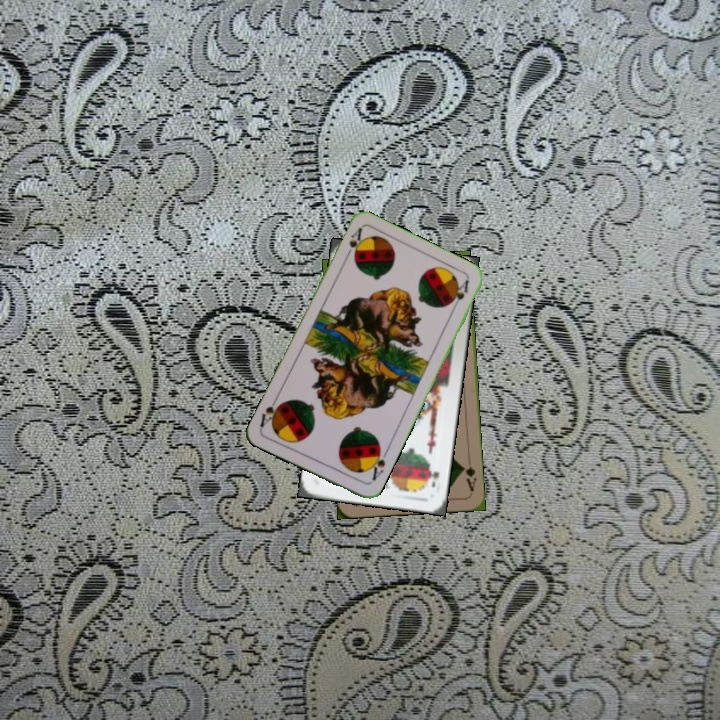GA: (459, 462, 479, 493)
SA: (364, 444, 390, 483), (341, 224, 365, 262)
SK: (425, 467, 442, 490)
